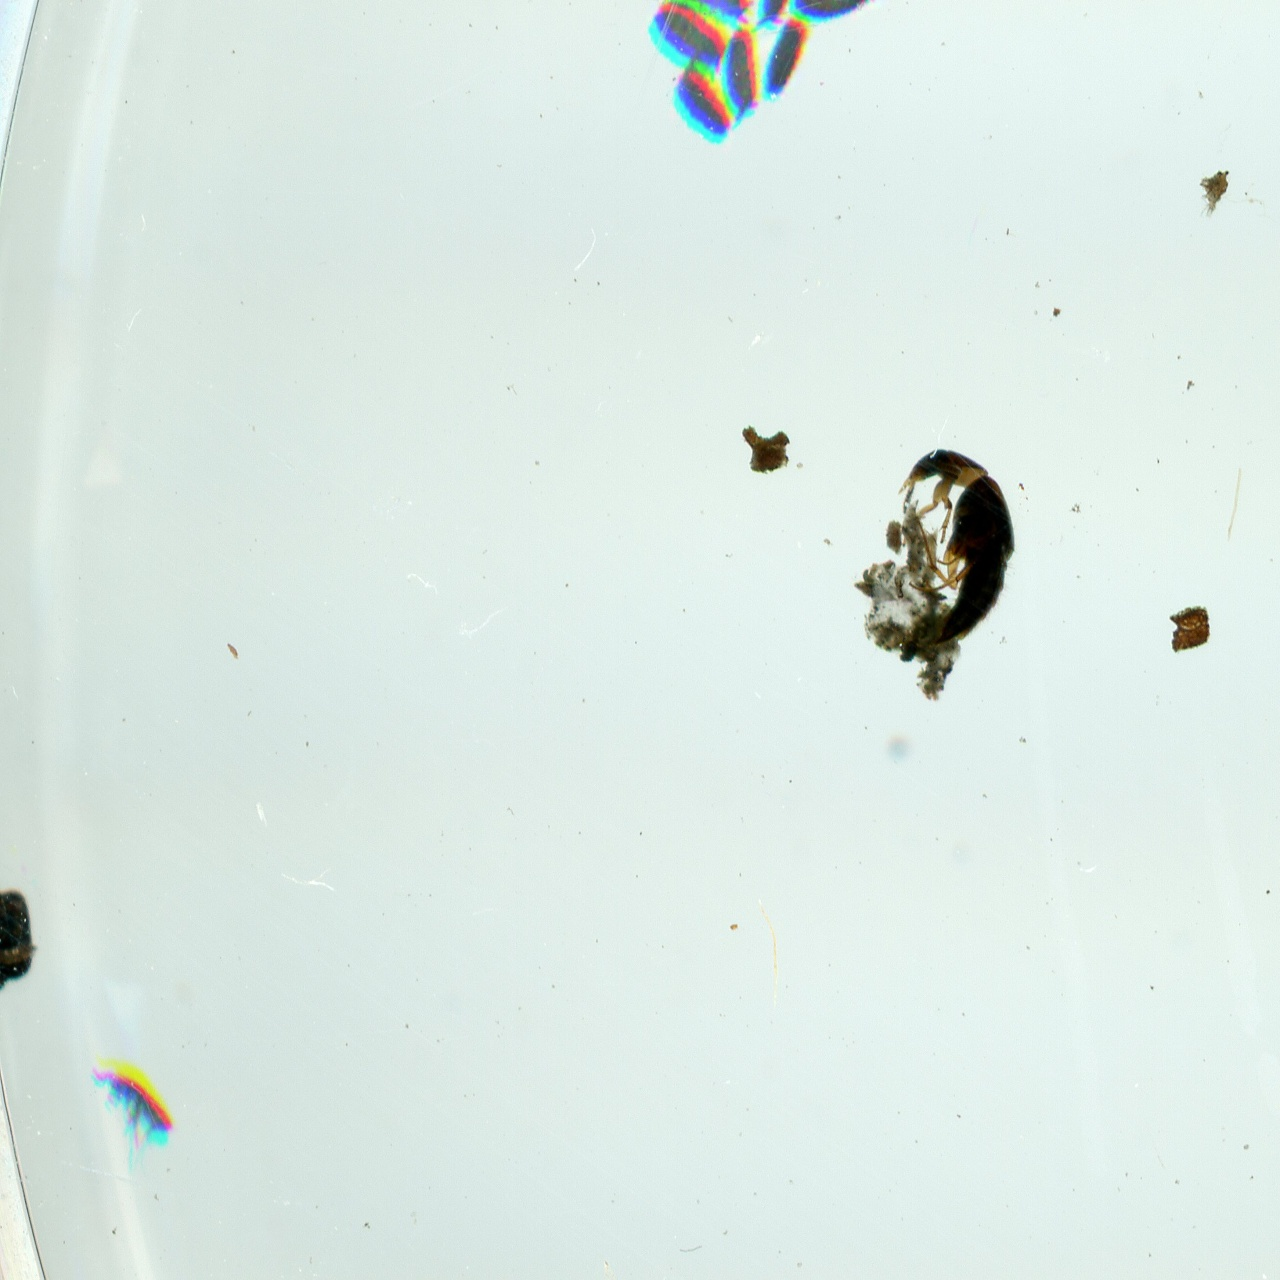arthropod: (896, 441, 1019, 658), (77, 1045, 193, 1165), (641, 0, 745, 80), (661, 59, 740, 147), (755, 11, 815, 108), (724, 21, 760, 117), (661, 0, 768, 32), (791, 0, 882, 24), (766, 0, 794, 11)
